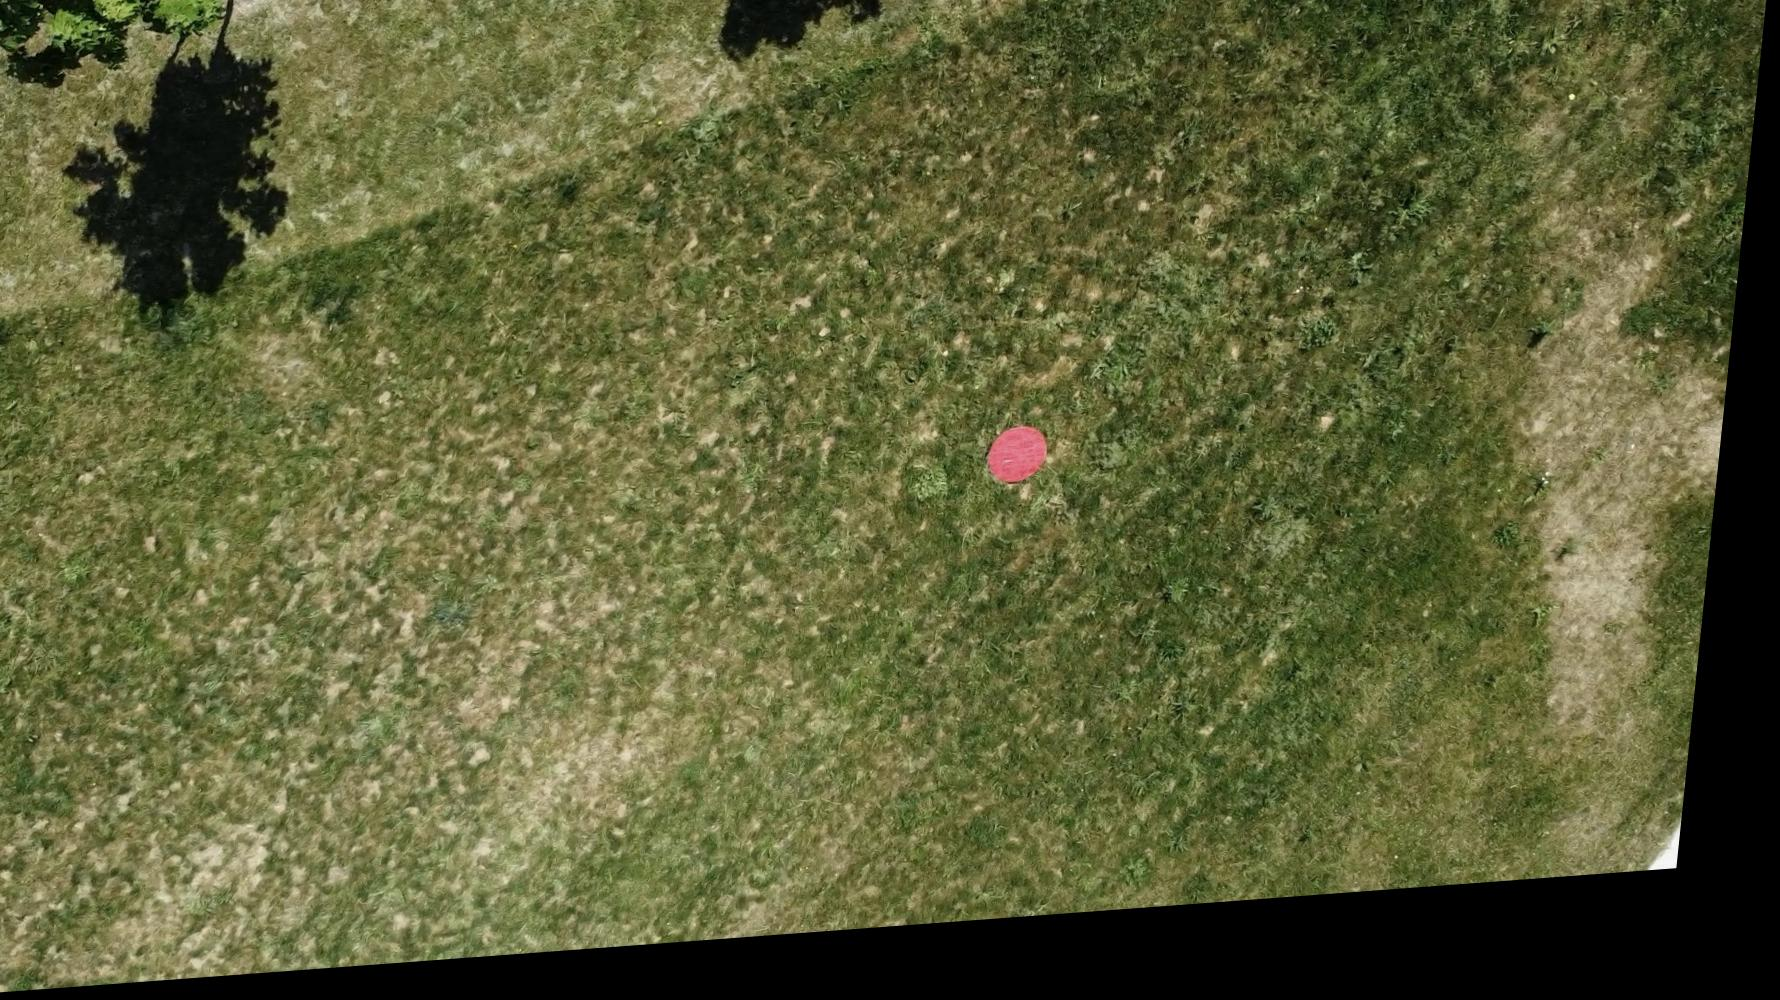Red: (993, 435, 1064, 505)
